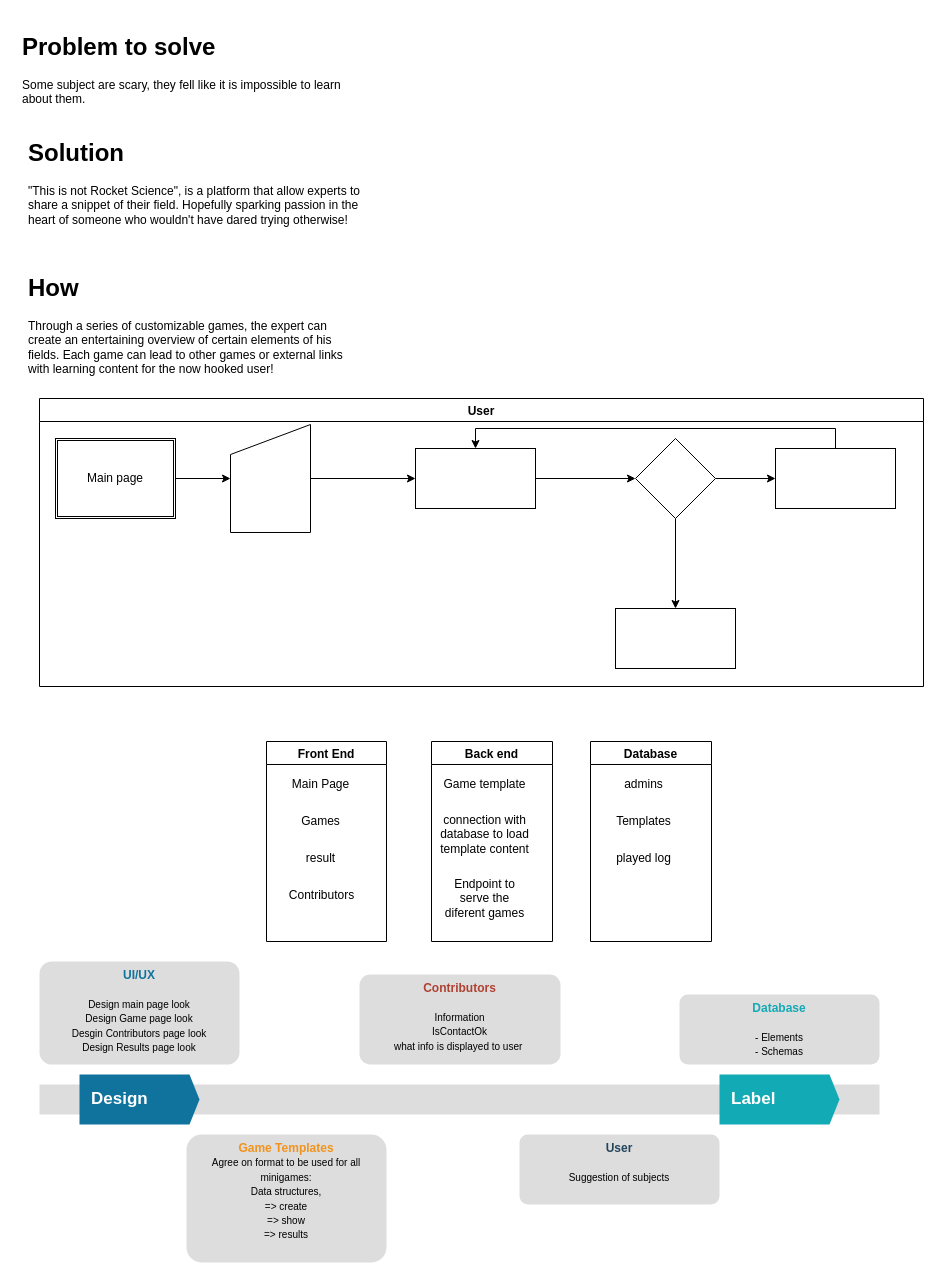
Image size: 941x1279. Some labels were removed from this diagram. The centre of each missing label's shape, as x and y in pixels:
Choose next exercise: pixel 835 478
Go to external link to learn: pixel 675 638
Go to game: pixel 475 478
User choose through the available topics: pixel 270 478
What next?: pixel 675 478
